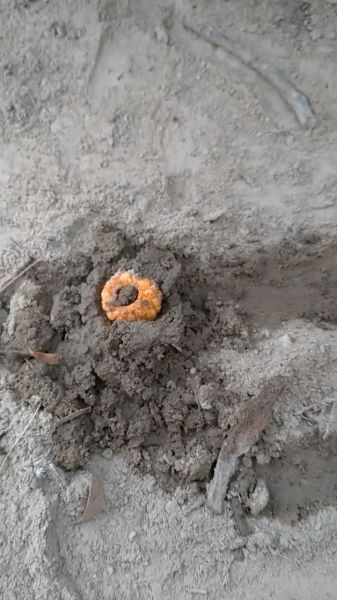eggs: (94, 264, 170, 331)
